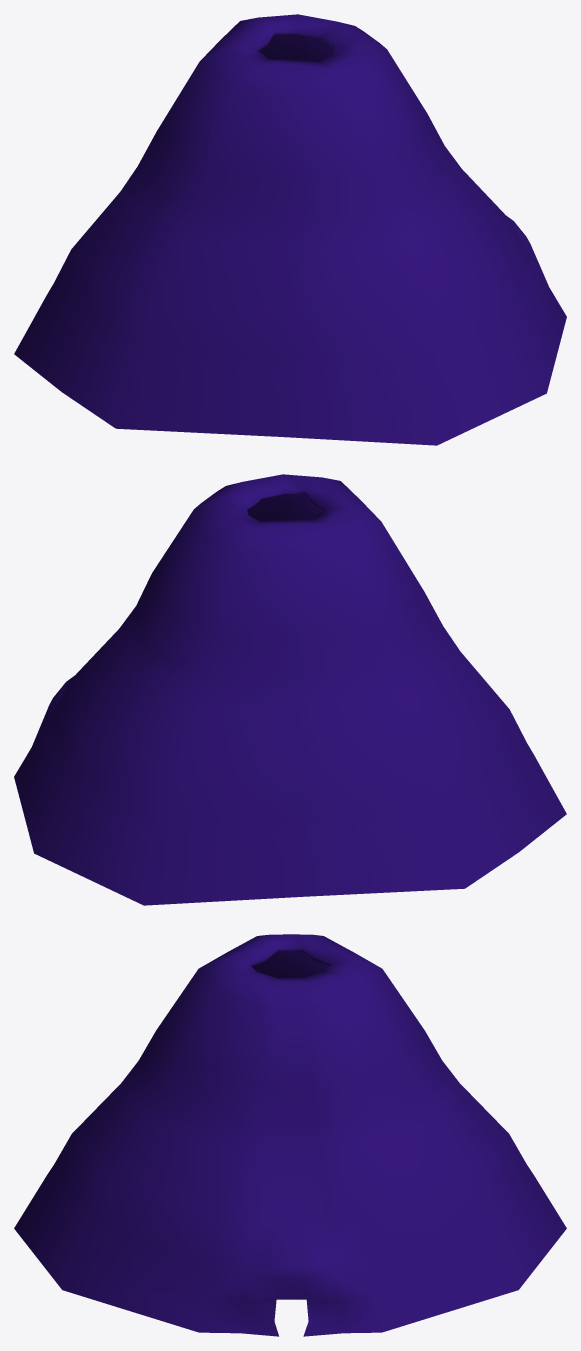
File: ExteriorValcano_UV (2).fbx
The picture shows the model from 3 angles, top to bottom: view 1: azimuth 30°, elevation 25°; view 2: azimuth 150°, elevation 25°; view 3: azimuth 270°, elevation 25°; orthographic projection. The views are drawn at different scales.
Visible parts, largest first — view 1: ExteriorValcano; view 2: ExteriorValcano; view 3: ExteriorValcano.
Part boxes in pixels (x1,y1,x2,y2): ExteriorValcano: (14, 14, 566, 445); ExteriorValcano: (14, 474, 566, 905); ExteriorValcano: (14, 934, 566, 1336).
Size of the model in its own units: 180 by 108 by 199.
